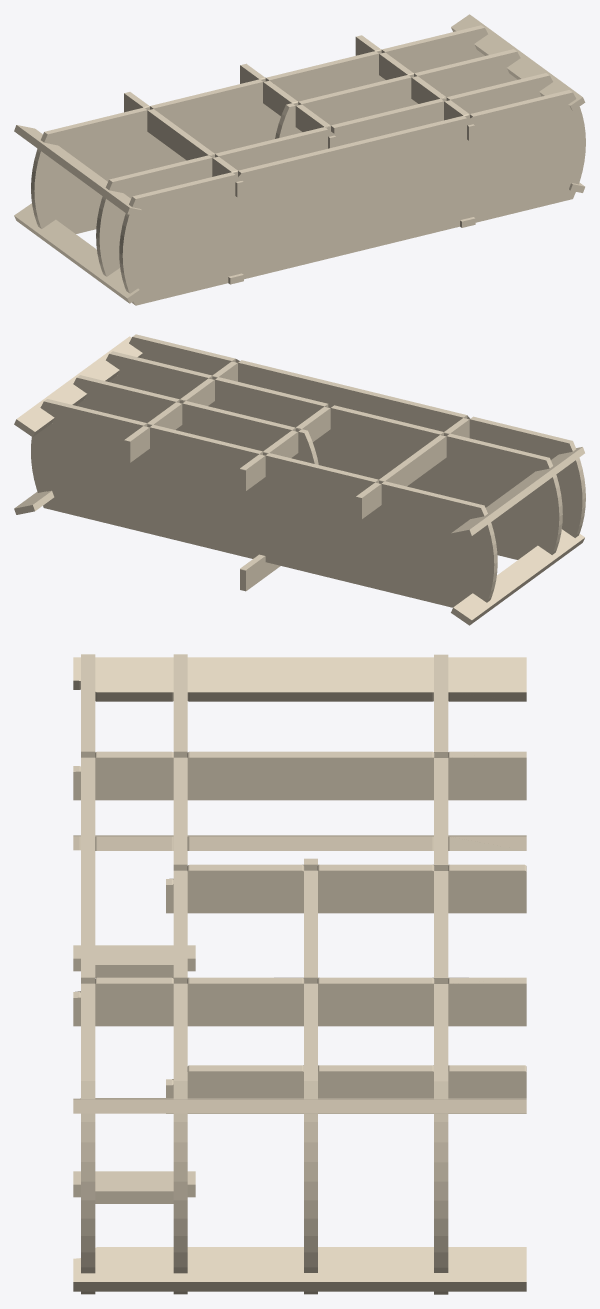
File: RACK_KIRI_BASE_LIMPIA_V10.glb
The picture shows the model from 3 angles, top to bottom: view 1: azimuth 30°, elevation 25°; view 2: azimuth 150°, elevation 25°; view 3: azimuth 270°, elevation 25°; orthographic projection. The views are drawn at different scales.
Visible parts, largest first — view 1: A, C, B, D, F_left_front, F_rear, G_right_rear, G_rear, F_left_rear, H_rear; view 2: C, B, A, D, F_left_front, F_rear, G_right_rear, G_rear, F_left_rear, H_rear, H_front, G_right_front; view 3: F_rear, G_rear, G_right_front, F_left_rear, H_rear, H_front, A, C, B, G_right_rear, F_left_front, D (+2 smaller).
Part boxes in pixels (<box>): A: <box>119,90,585,305</box>; C: <box>31,25,487,233</box>; B: <box>96,73,552,276</box>; D: <box>275,49,520,138</box>; F_left_front: <box>14,203,141,303</box>; F_rear: <box>124,92,243,197</box>; G_right_rear: <box>451,14,585,110</box>; G_rear: <box>355,35,475,140</box>; F_left_rear: <box>14,125,141,216</box>; H_rear: <box>240,63,336,148</box>; C: <box>31,399,497,607</box>; B: <box>106,351,562,559</box>; A: <box>129,334,585,537</box>; D: <box>73,375,318,464</box>; F_left_front: <box>451,529,584,625</box>; F_rear: <box>355,418,469,519</box>; G_right_rear: <box>14,336,142,437</box>; G_rear: <box>124,361,237,462</box>; F_left_rear: <box>451,447,584,539</box>; H_rear: <box>240,406,330,490</box>; H_front: <box>240,554,280,591</box>; G_right_front: <box>14,490,54,514</box>; F_rear: <box>73,751,526,800</box>; G_rear: <box>73,977,526,1026</box>; G_right_front: <box>73,1247,526,1291</box>; F_left_rear: <box>73,657,526,701</box>; H_rear: <box>166,864,526,913</box>; H_front: <box>166,1065,526,1113</box>; A: <box>81,654,95,1294</box>; C: <box>434,654,448,1294</box>; B: <box>173,654,187,1294</box>; G_right_rear: <box>73,1098,526,1113</box>; F_left_front: <box>73,835,526,850</box>; D: <box>304,858,317,1294</box>.
Size of the model in its own units: 1.36 by 0.342 by 0.578.
